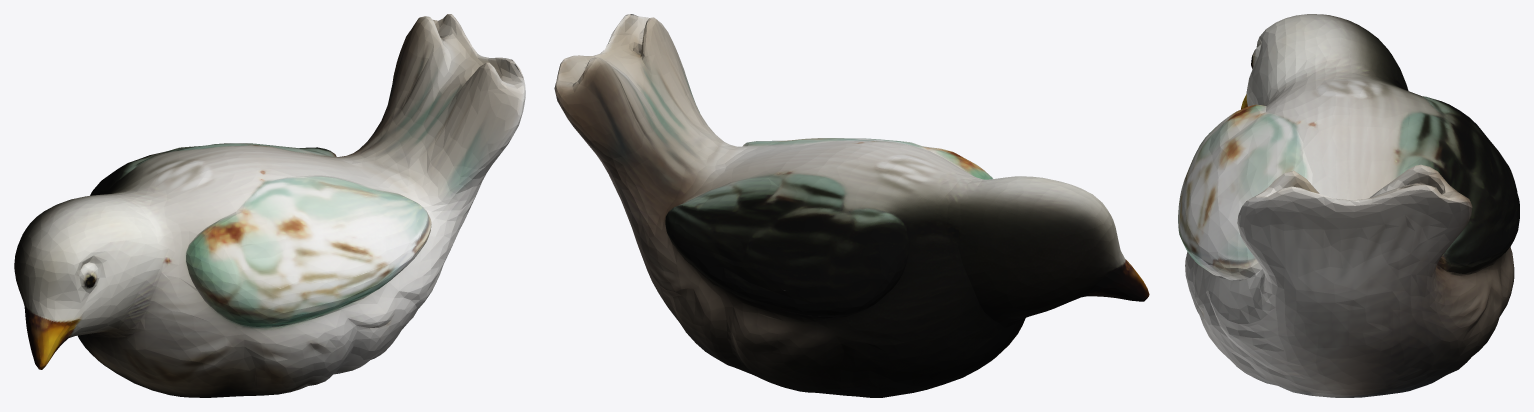
Rendered from porcelain-bird-statue-used-rustic-worn.jpeg.glb.
The picture shows the model from 3 angles, left to right: view 1: azimuth 30°, elevation 25°; view 2: azimuth 150°, elevation 25°; view 3: azimuth 270°, elevation 25°; orthographic projection. The views are drawn at different scales.
Parts seen in each view (by area): view 1: world; view 2: world; view 3: world.
Part boxes in pixels (x1=…): world: x1=14, y1=14, x2=525, y2=397; world: x1=554, y1=14, x2=1149, y2=397; world: x1=1178, y1=14, x2=1519, y2=397.
Bounding box in the file's own units: 1 × 0.5227 × 0.5385.
1 material, 1 textured.
